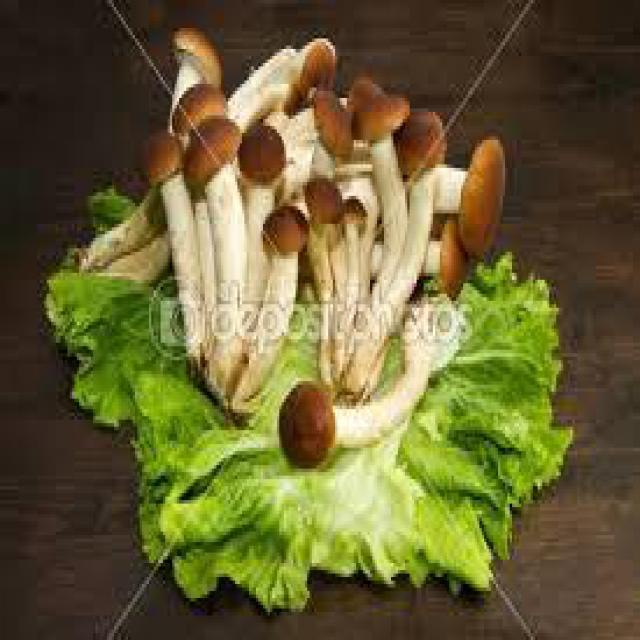Agrocybe aegerita: (83, 21, 507, 454)
